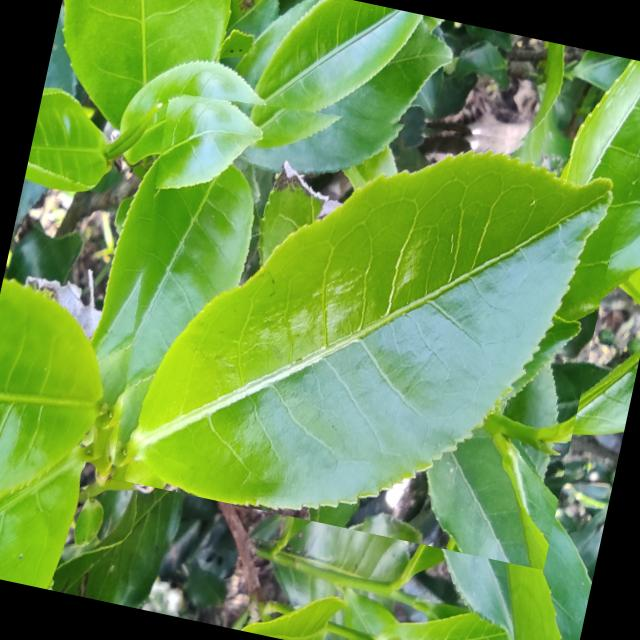Category B(2-4 days): (87, 58, 630, 570)
